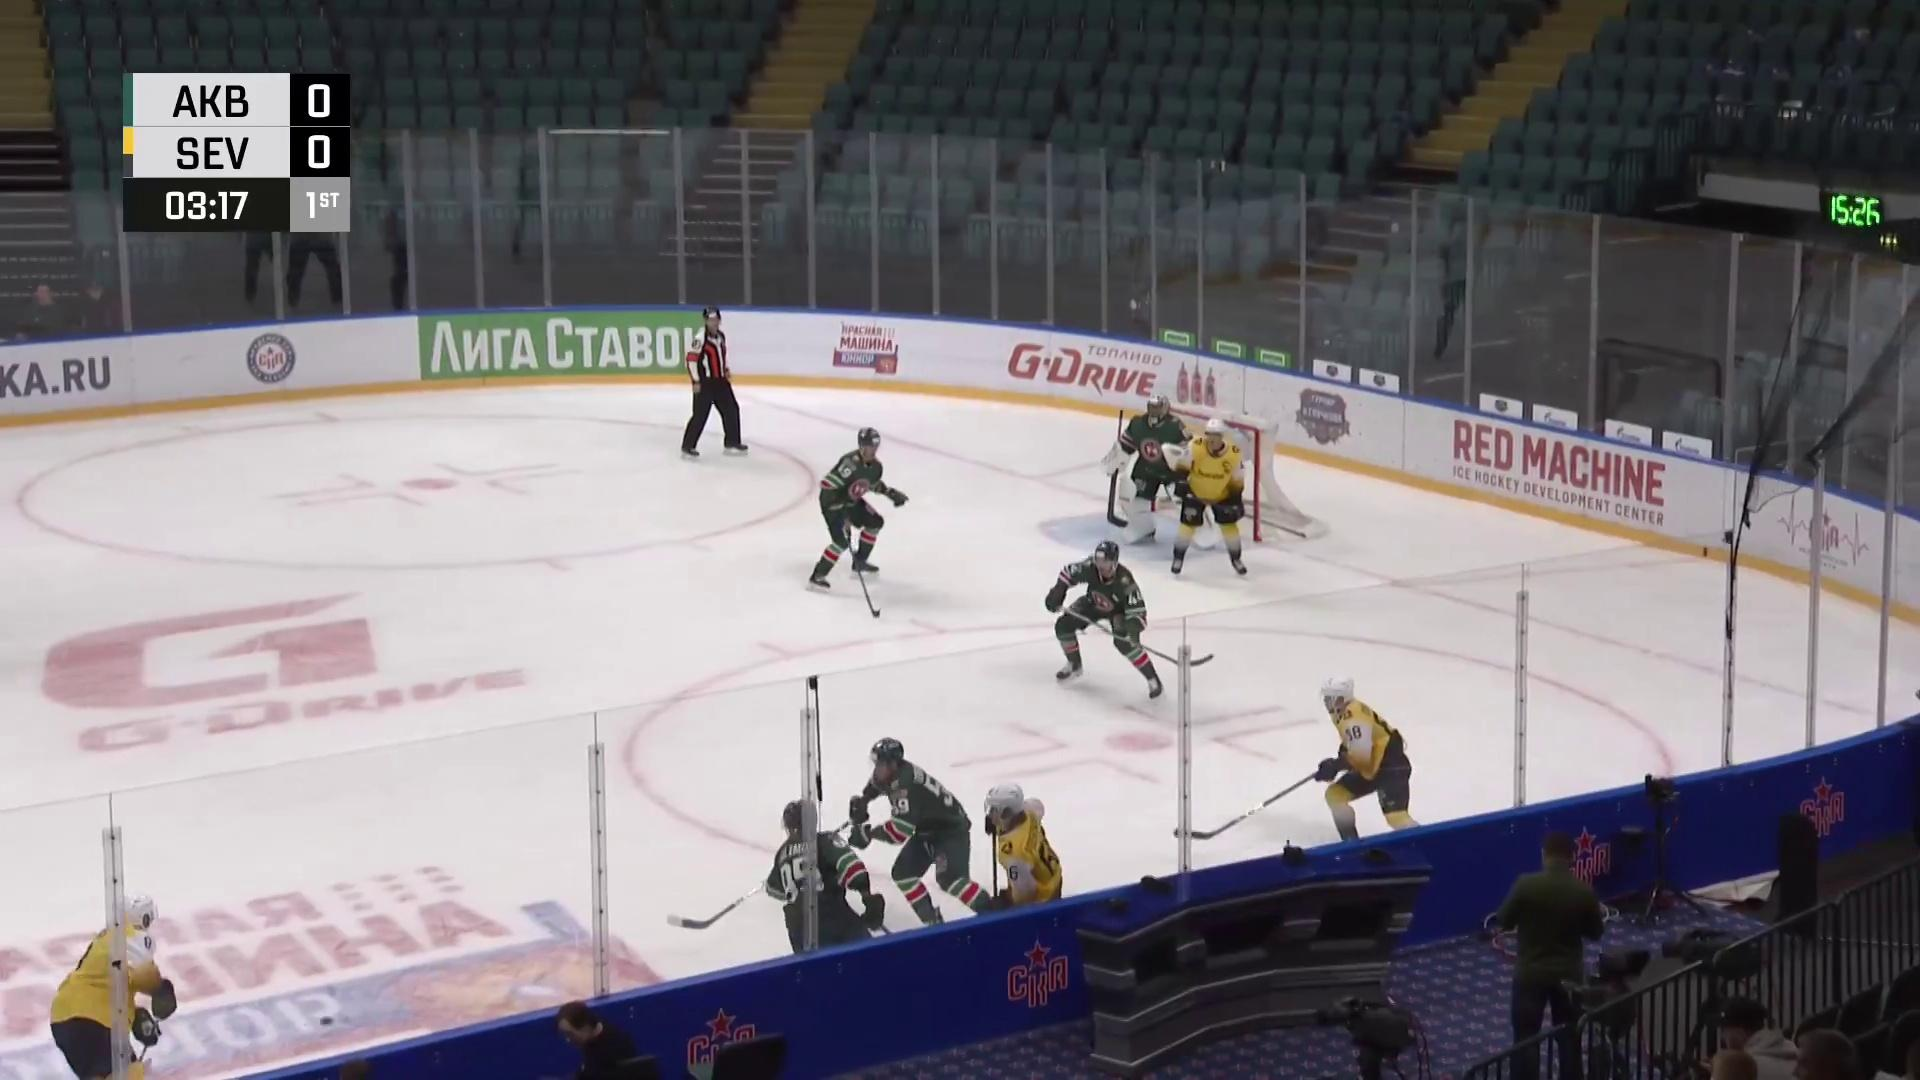ball: (316, 1017, 335, 1026)
